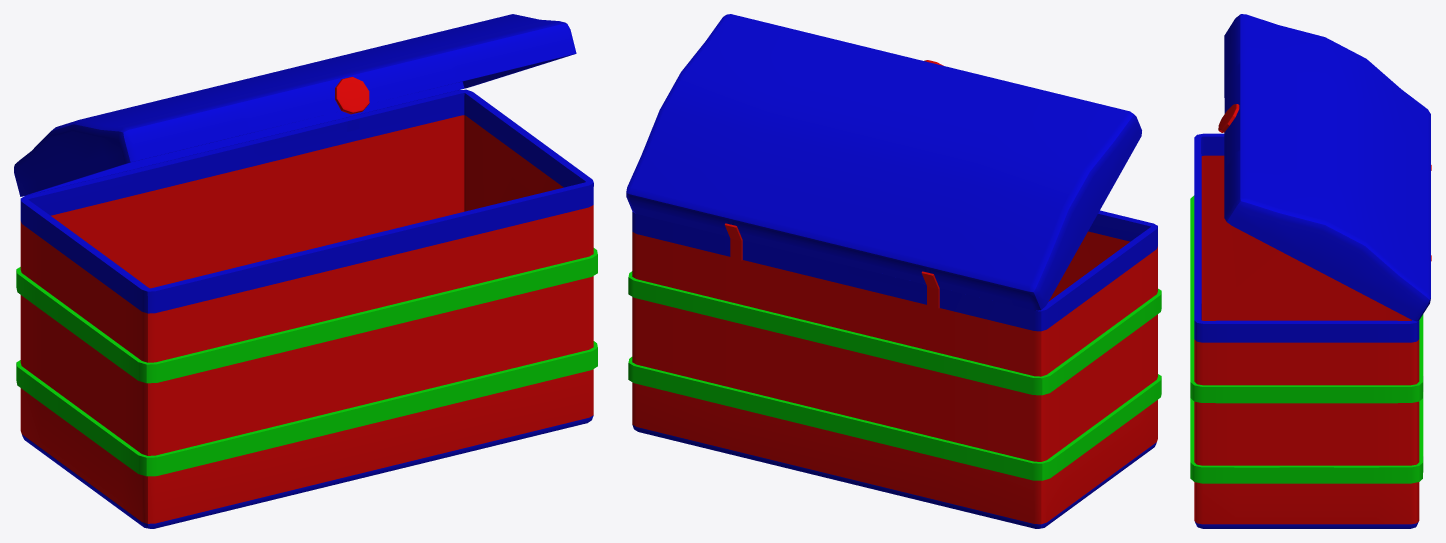
Rendered from Chest_1.fbx.
3 views of the same model, side by side, from view 1: azimuth 30°, elevation 25°; view 2: azimuth 150°, elevation 25°; view 3: azimuth 270°, elevation 25° (orthographic). The views are drawn at different scales.
Visible parts, largest first — view 1: Chest_1; view 2: Chest_1; view 3: Chest_1.
Boxes of the visible parts, <box> form: Chest_1: <box>14,14,597,528</box>; Chest_1: <box>626,14,1161,528</box>; Chest_1: <box>1190,14,1431,528</box>.
Bounding box in the file's own units: 2.04 × 1.63 × 1.07.
